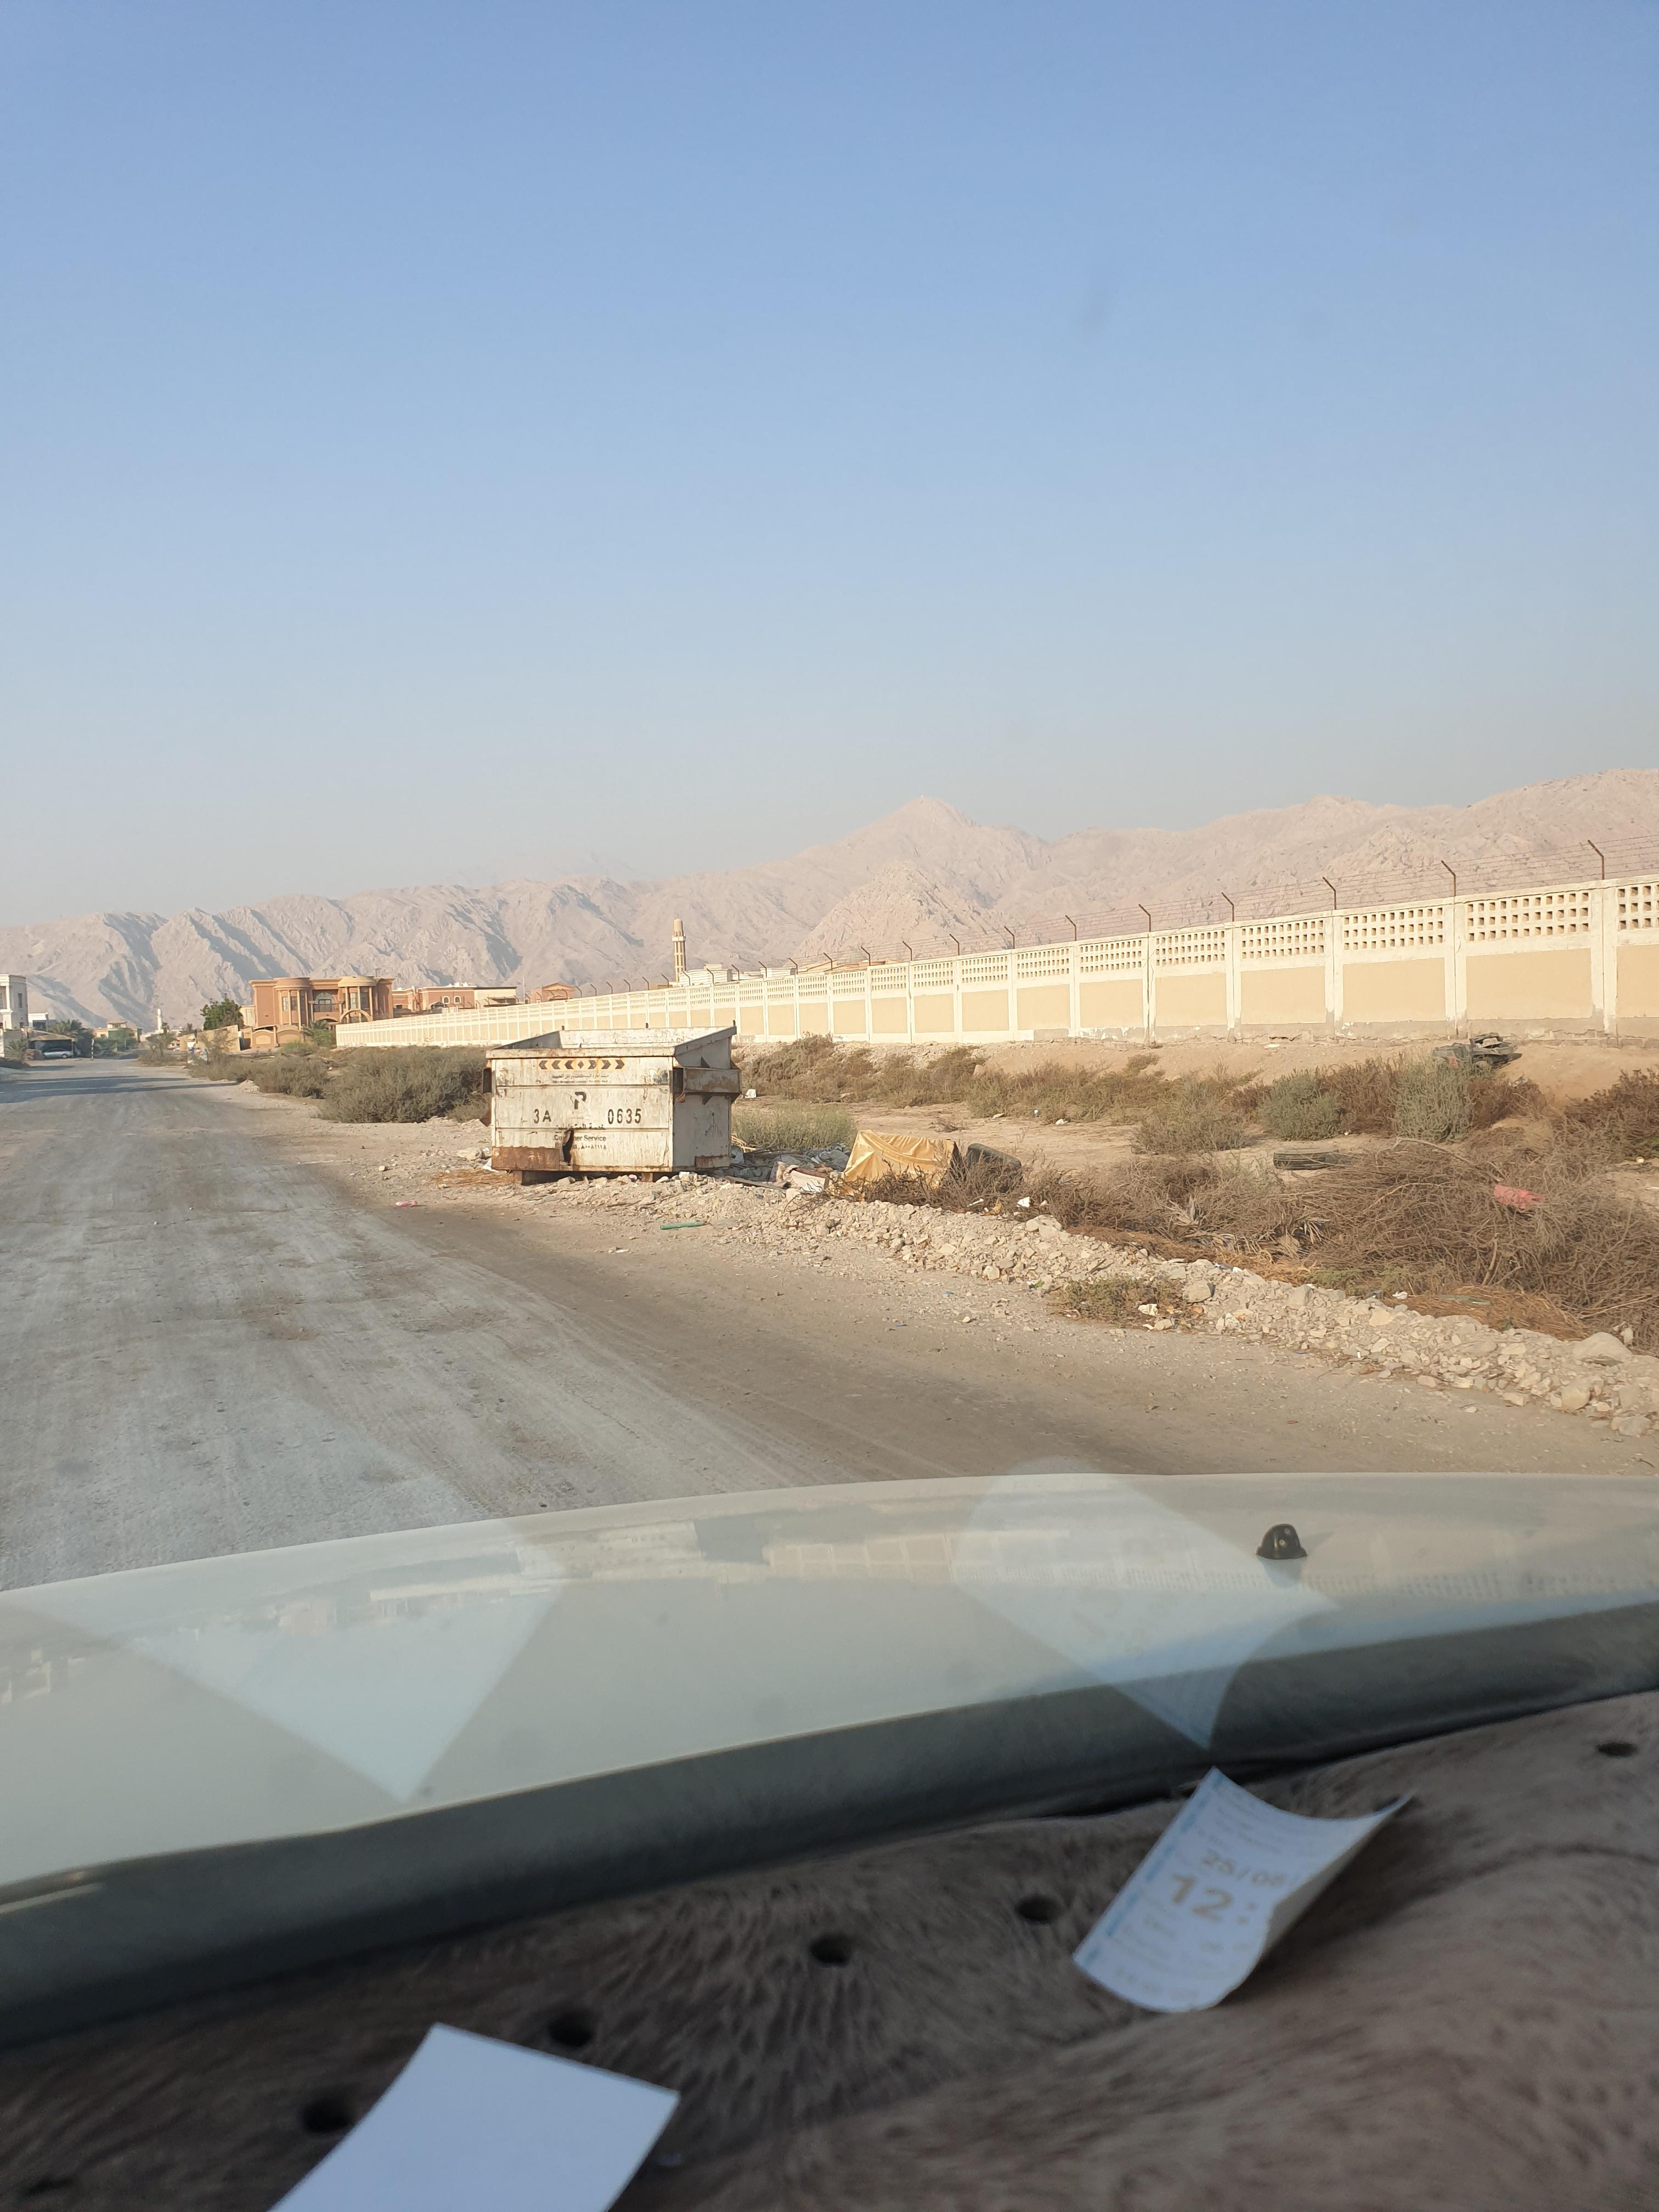uncollected_waste: (760, 1122, 1054, 1219)
